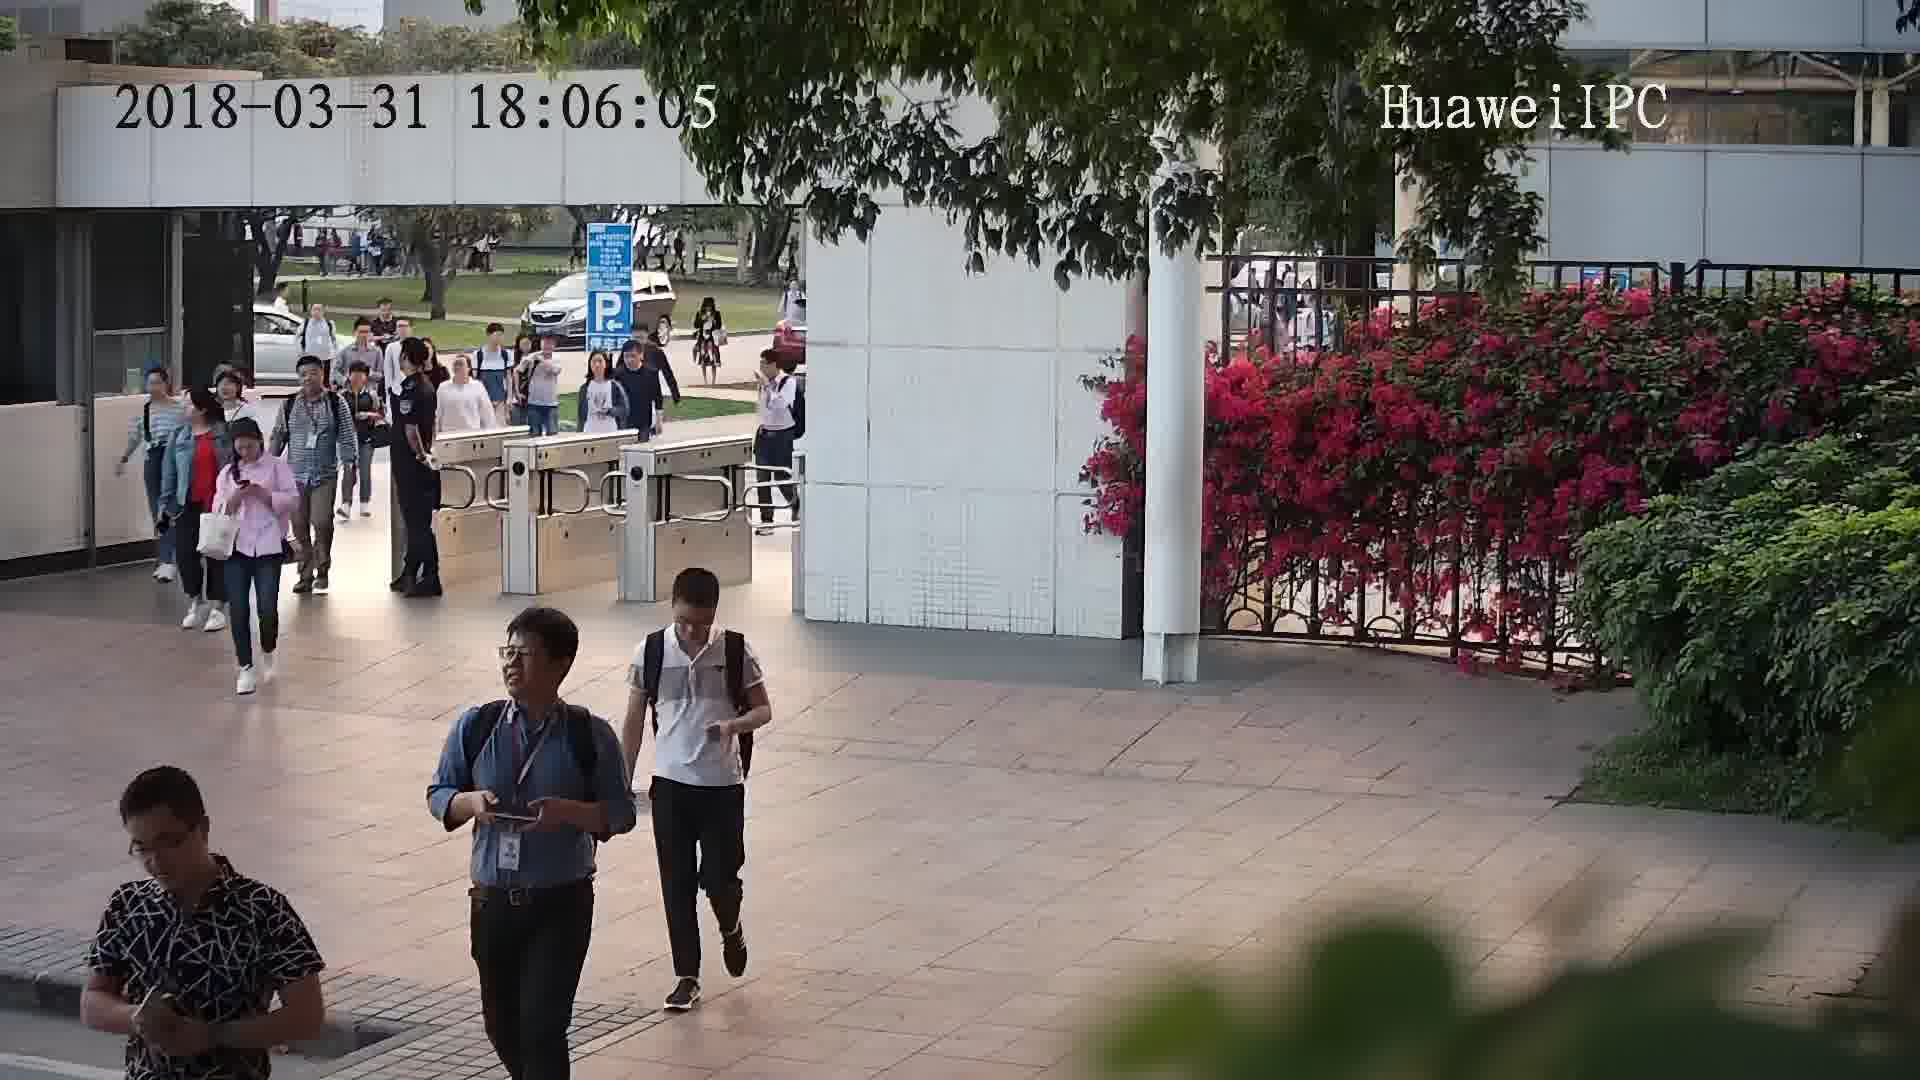face: (120, 804, 205, 889), (492, 624, 565, 697), (671, 597, 717, 648)
person: (95, 767, 299, 940), (457, 605, 612, 755), (633, 562, 760, 672), (216, 417, 294, 485), (169, 388, 229, 452), (284, 354, 346, 415), (137, 361, 188, 421), (211, 361, 263, 417), (391, 337, 436, 398), (439, 353, 489, 404), (336, 314, 385, 363), (758, 346, 803, 394), (614, 340, 664, 384), (338, 357, 381, 406), (337, 314, 382, 360), (581, 348, 623, 394), (473, 320, 512, 367), (527, 332, 566, 379), (381, 320, 424, 354), (299, 299, 338, 336), (371, 296, 405, 330), (692, 294, 725, 323), (780, 277, 805, 304)
